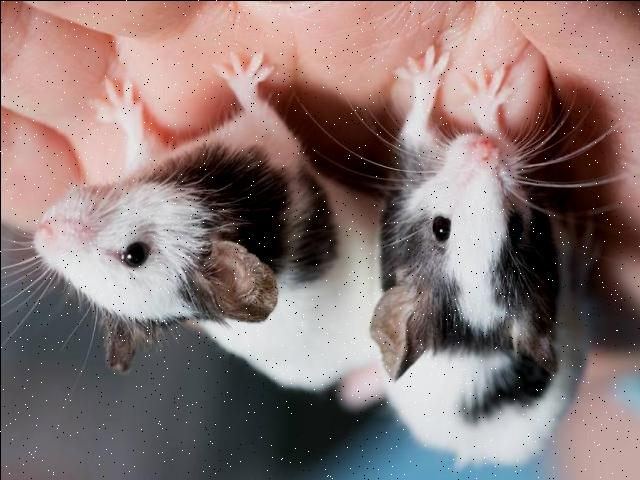Tikus: (9, 54, 362, 375), (368, 54, 594, 466)
